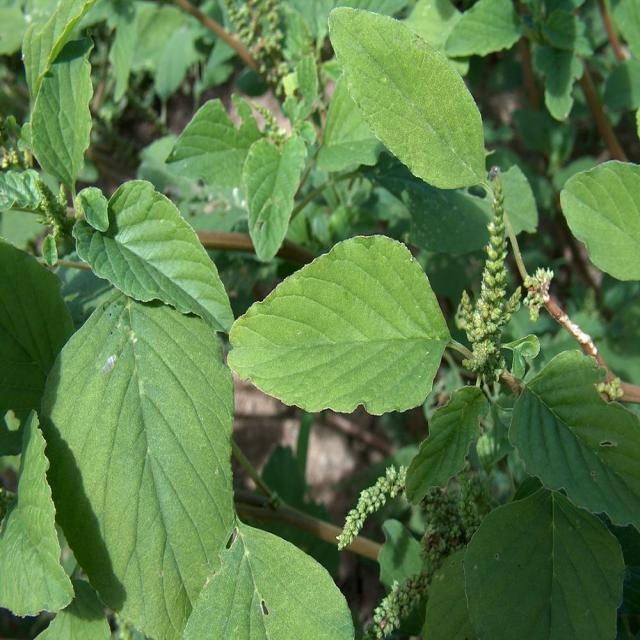Medicinal-Arive Dantu: (246, 11, 637, 564)
